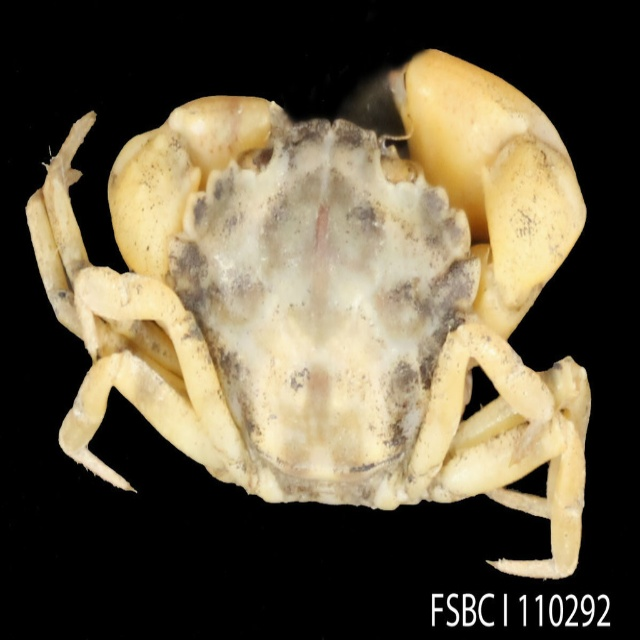Crab: (25, 45, 594, 580)
